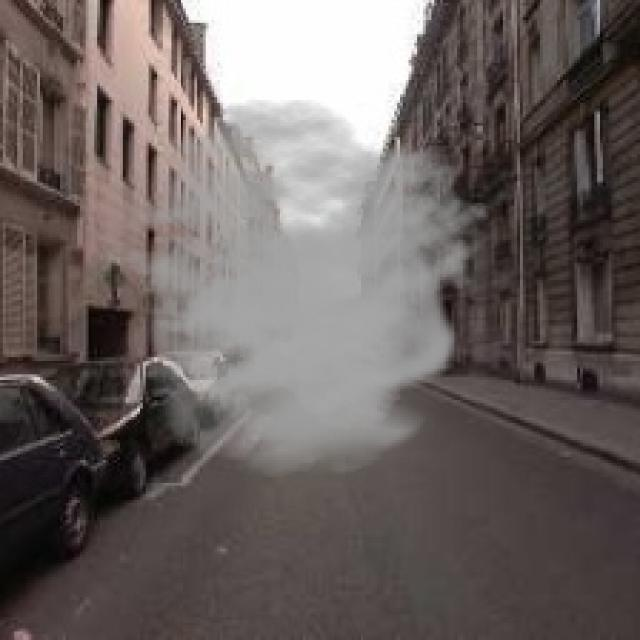smoke: (94, 97, 492, 477)
